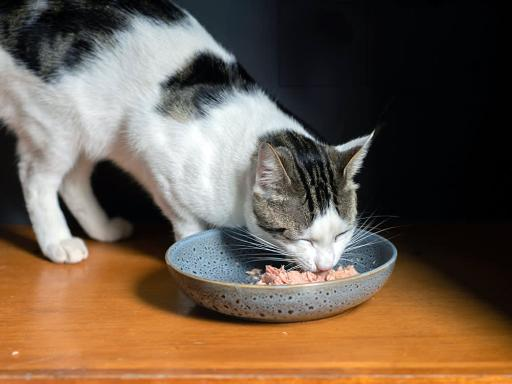cat_eating: (1, 0, 393, 322)
